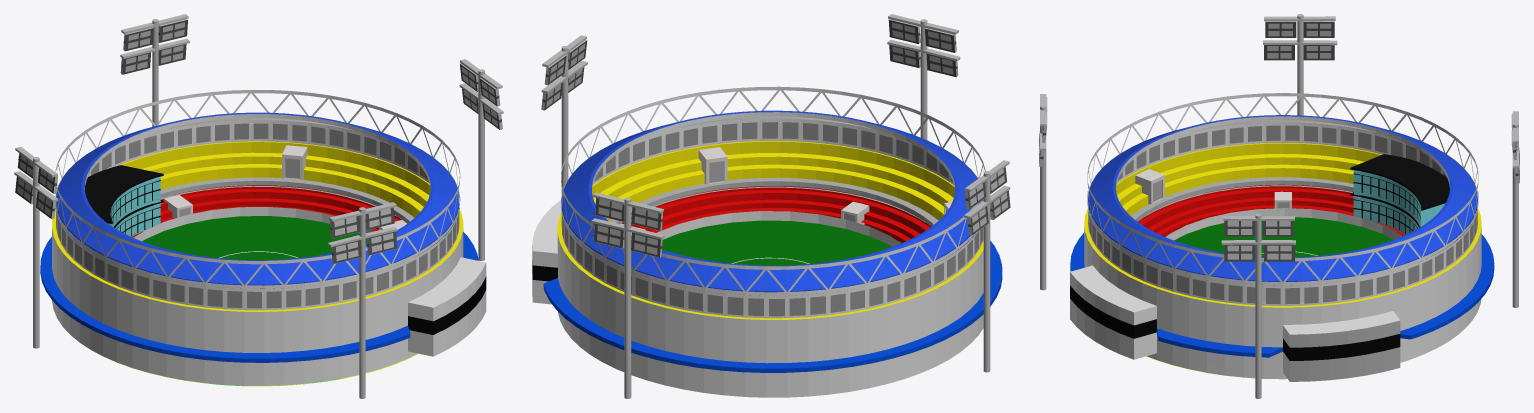
Rendered from cricket_stadium.glb.
The picture shows the model from 3 angles, left to right: view 1: azimuth 30°, elevation 25°; view 2: azimuth 150°, elevation 25°; view 3: azimuth 270°, elevation 25°; orthographic projection. The views are drawn at different scales.
Parts seen in each view (by area): view 1: Cylinder.009, Cylinder.010, Circle, Cylinder.012, Cube.010, Cylinder.007, Cube.012, Cylinder.008, Cube.011, Cube.013, Cylinder.006, Cylinder.004 (+4 smaller); view 2: Cylinder.009, Cylinder.010, Circle, Cube.012, Cylinder.007, Cylinder.008, Cube.010, Cube.011, Cylinder.006, Cylinder.004, Cube.013, Cylinder.003 (+4 smaller); view 3: Cylinder.009, Cylinder.010, Cylinder.012, Circle, Cube.013, Cube.011, Cylinder.007, Cylinder.008, Cylinder.006, Cylinder.004, Cylinder.003, Cube.012 (+4 smaller).
Boxes of the visible parts, <box> form: Cylinder.009: <box>40,141,486,386</box>; Cylinder.010: <box>55,90,460,310</box>; Circle: <box>134,207,373,260</box>; Cylinder.012: <box>85,165,163,237</box>; Cube.010: <box>328,202,397,398</box>; Cylinder.007: <box>160,164,423,217</box>; Cube.012: <box>120,14,189,126</box>; Cylinder.008: <box>141,152,429,206</box>; Cube.011: <box>14,146,58,348</box>; Cube.013: <box>459,59,503,260</box>; Cylinder.006: <box>160,177,413,223</box>; Cylinder.004: <box>160,189,399,221</box>; Cylinder.009: <box>532,141,1002,397</box>; Cylinder.010: <box>561,86,985,318</box>; Circle: <box>657,211,901,265</box>; Cube.012: <box>591,192,664,398</box>; Cylinder.007: <box>605,164,944,220</box>; Cylinder.008: <box>593,153,953,206</box>; Cube.010: <box>887,14,960,139</box>; Cube.011: <box>964,160,1010,372</box>; Cylinder.006: <box>609,177,938,226</box>; Cylinder.004: <box>623,190,930,233</box>; Cube.013: <box>541,35,587,194</box>; Cylinder.003: <box>638,199,919,238</box>; Cylinder.009: <box>1070,143,1494,381</box>; Cylinder.010: <box>1087,93,1478,305</box>; Cylinder.012: <box>1350,154,1449,234</box>; Circle: <box>1165,208,1402,257</box>; Cube.013: <box>1221,213,1295,398</box>; Cube.011: <box>1263,14,1337,115</box>; Cylinder.007: <box>1122,164,1353,215</box>; Cylinder.008: <box>1117,154,1364,205</box>; Cylinder.006: <box>1131,177,1353,221</box>; Cylinder.004: <box>1139,188,1353,228</box>; Cylinder.003: <box>1148,197,1353,232</box>; Cube.012: <box>1511,111,1519,307</box>.
Size of the model in its own units: 19.96 by 8.36 by 19.96.
